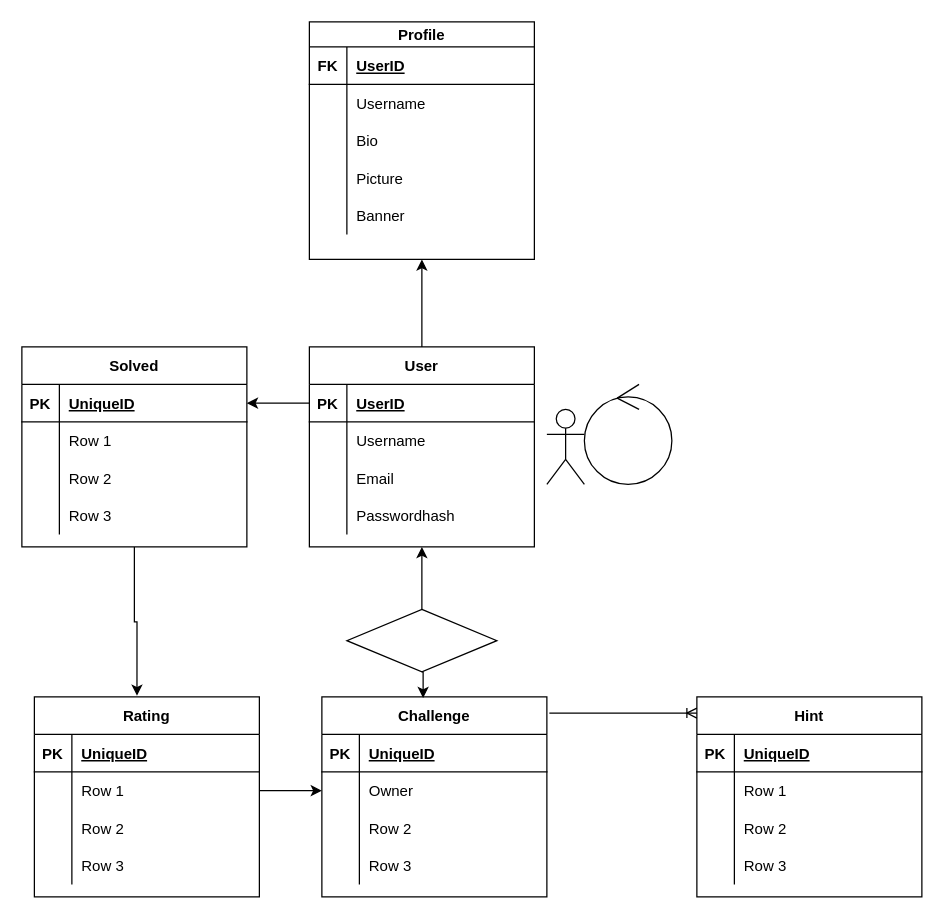
This 944x919 diagram has some shape labels left out. The shapes that lost their labels are listed below. From the top down, each one's centre as x and y in pixels, then its label:
the point at 565,446: Actor
the point at 627,433: Control Object
the point at 421,640: Relationship
